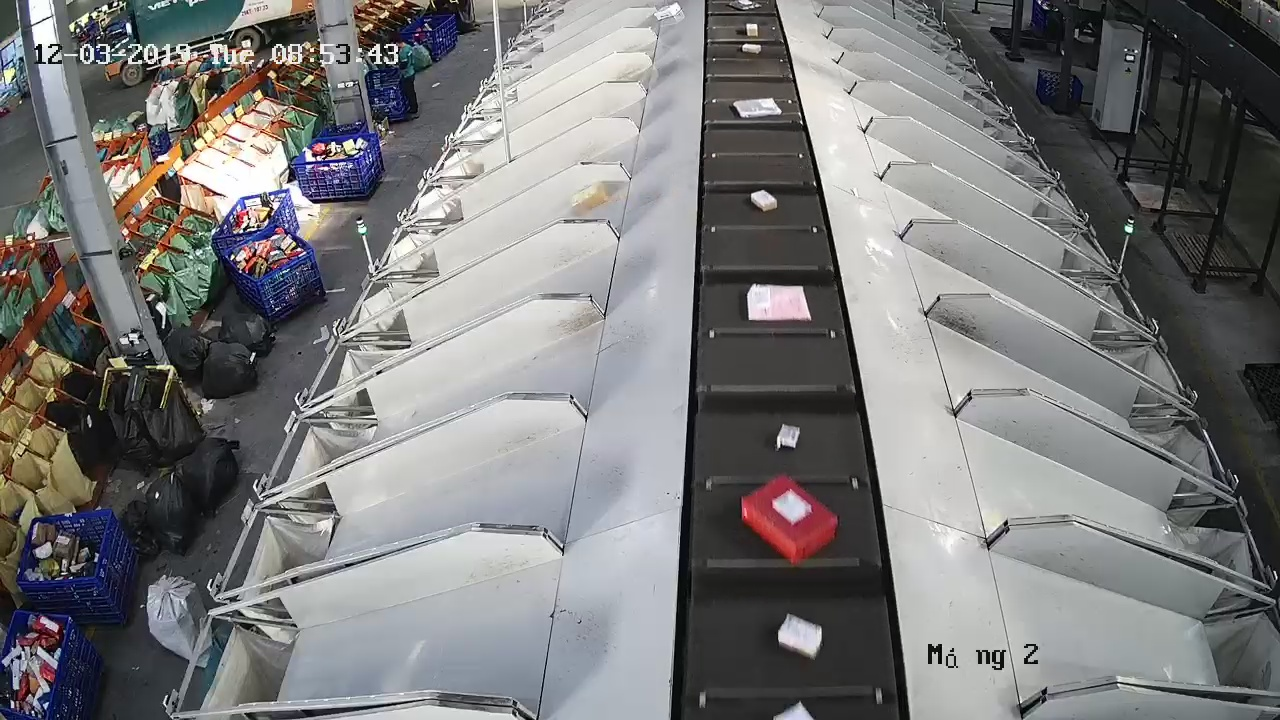parcel: (739, 472, 841, 567), (744, 281, 814, 323), (776, 612, 824, 663), (570, 181, 610, 215), (774, 422, 802, 453), (750, 189, 778, 213)
